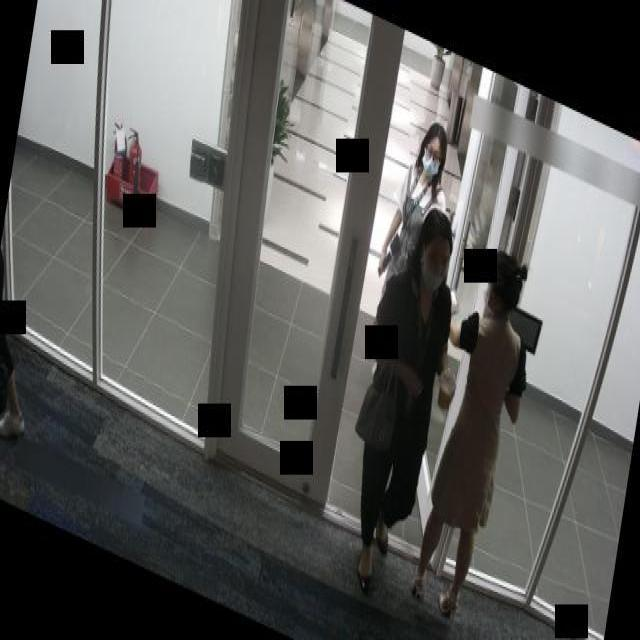hairnet: (423, 242, 450, 294)
